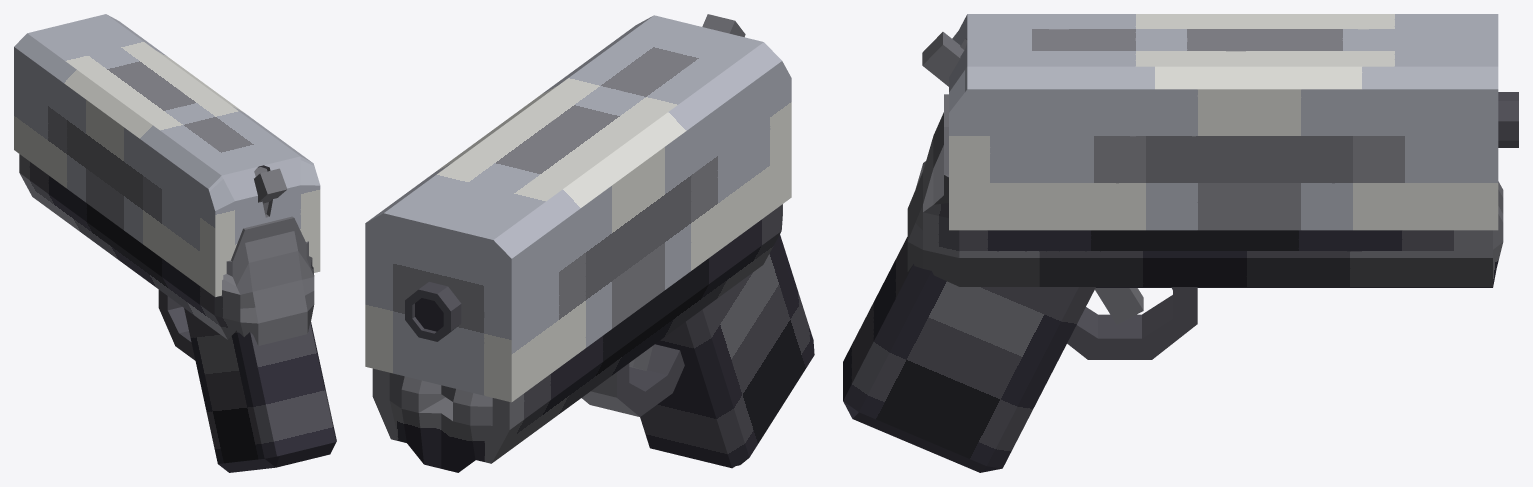
The model's file is Pistol.fbx.
The picture shows the model from 3 angles, left to right: view 1: azimuth 30°, elevation 25°; view 2: azimuth 150°, elevation 25°; view 3: azimuth 270°, elevation 25°; orthographic projection. The views are drawn at different scales.
Parts seen in each view (by area): view 1: cuboid, cuboid_5, cuboid_2, tube_1, cuboid_4; view 2: cuboid, cuboid_5, cuboid_2, tube_1, tube, cuboid_1, cuboid_4; view 3: cuboid, cuboid_5, cuboid_2, tube_1, cuboid_4, cuboid_3, tube.
Part boxes in pixels (x1,y1,x2,y2): cuboid: (14,14,320,297); cuboid_5: (19,154,314,345); cuboid_2: (184,308,336,472); tube_1: (158,289,195,360); cuboid_4: (254,168,287,203); cuboid: (365,15,791,402); cuboid_5: (372,204,782,472); cuboid_2: (640,235,814,468); tube_1: (582,344,684,416); tube: (405,282,461,341); cuboid_1: (415,298,443,331); cuboid_4: (702,14,745,37); cuboid: (949,14,1498,230); cuboid_5: (907,94,1503,287); cuboid_2: (843,237,1095,472); tube_1: (1067,287,1197,359); cuboid_4: (922,32,964,86); cuboid_3: (1095,288,1143,324); tube: (1498,92,1518,147).
Bounding box in the file's own units: 20 × 55.49 × 81.53.
1 material, 1 textured.
